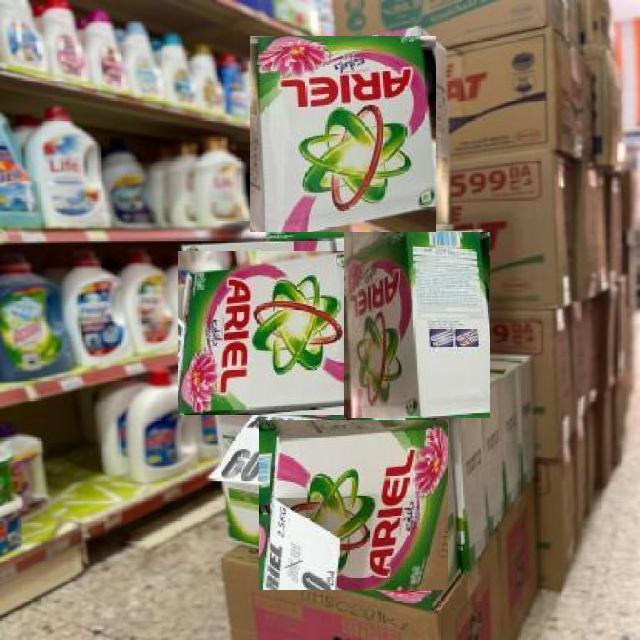Detergent: (249, 35, 436, 232), (259, 419, 448, 590), (177, 251, 351, 415), (343, 231, 490, 418)
